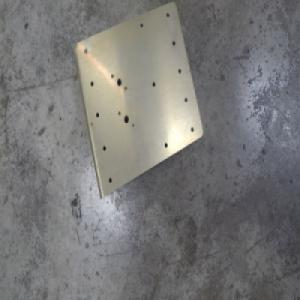MetalSheet: (71, 1, 204, 202)
